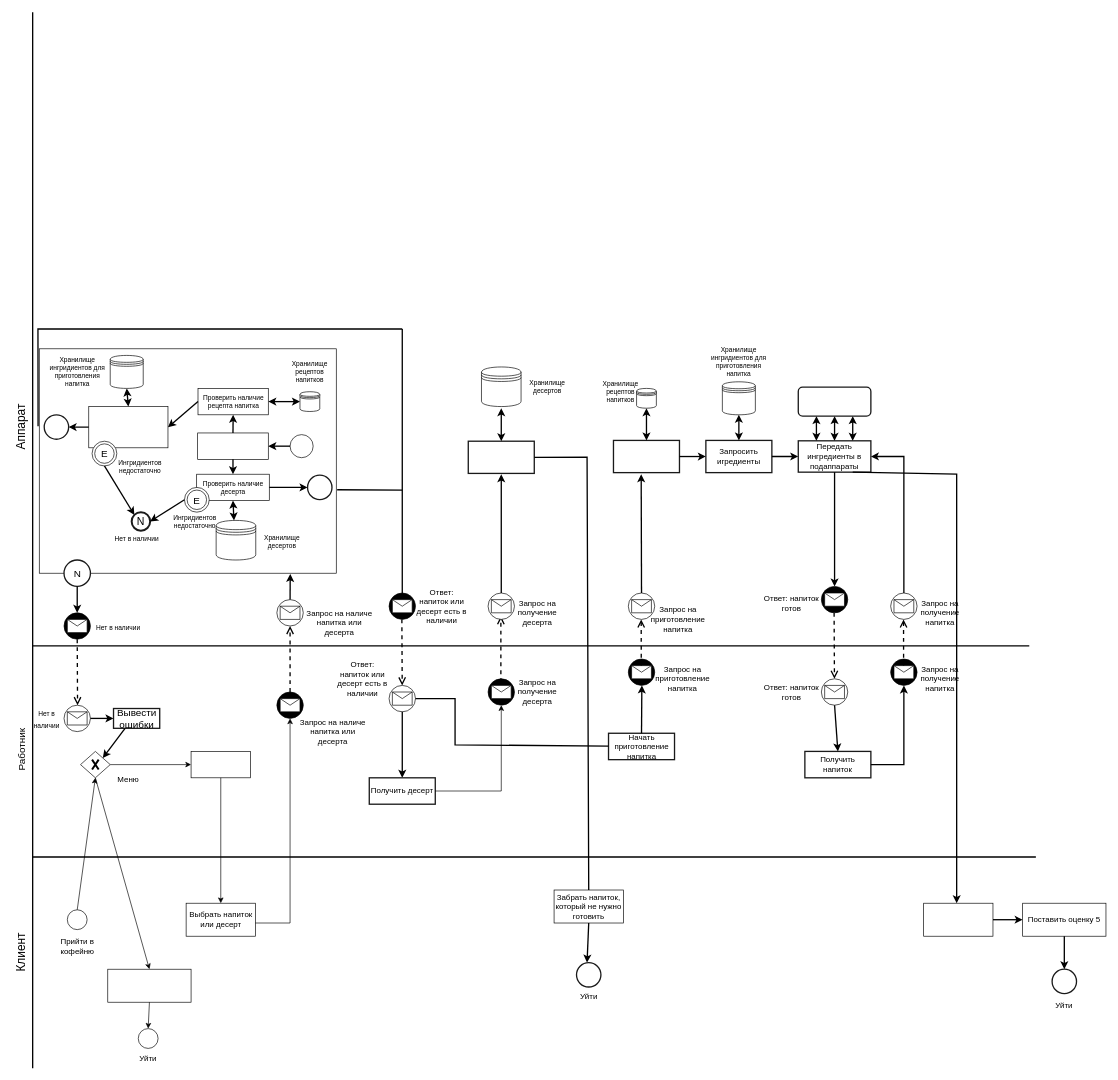
This 1118x1080 diagram has some shape labels left out. Each missing label, with the centre of its shape:
"Забрать напиток" belongs at (x=958, y=919).
"Запросить выбор напитка или десерта" belongs at (x=220, y=764).
"Запросить десерт из хранилища" belongs at (x=501, y=457).
"Запросить рецепт напитка из хранилища" belongs at (x=646, y=456).
"Поставить оценку 1" belongs at (x=149, y=985).
"Приготовить ингредиенты в подаппаратах" belongs at (x=834, y=401).
"Проверить наличие ингредиентов для приготовления напитка" belongs at (x=128, y=427).
"Проверить нужен ли напиток или десерт" belongs at (x=232, y=445).
